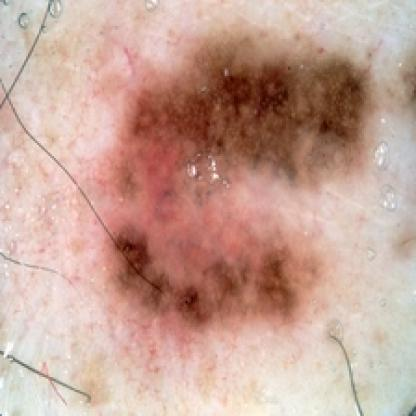Skin_Cancer-Malignant: (106, 28, 372, 335)
